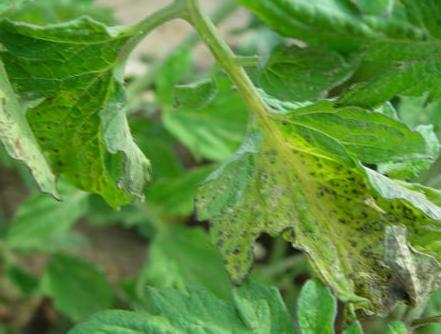Tomato leaf bacterial spot: (193, 83, 441, 327), (0, 0, 168, 245), (52, 262, 385, 334)
